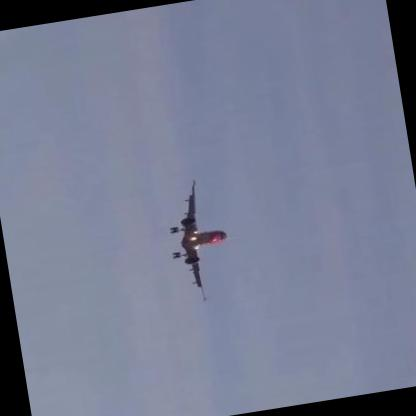plane: (160, 173, 255, 308)
